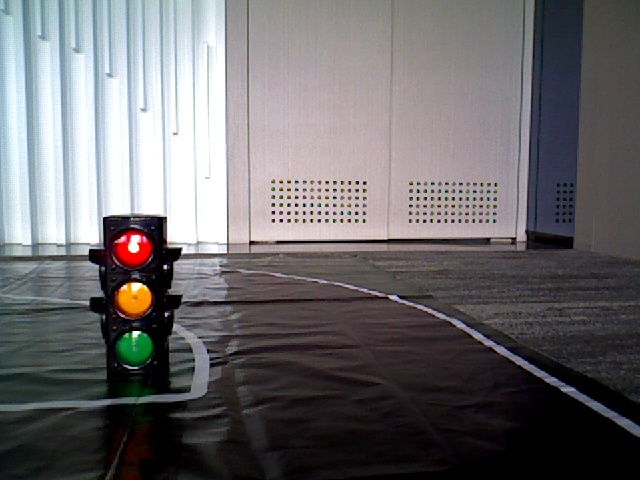red: (105, 220, 160, 374)
